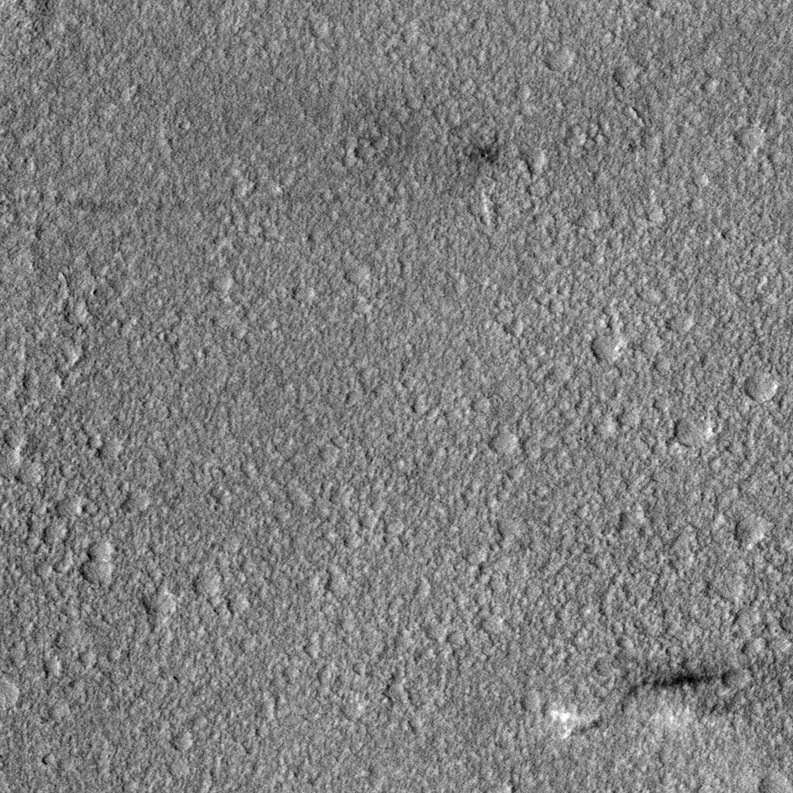dust_devil: (547, 662, 740, 742)
